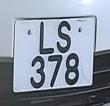3: (27, 53, 48, 89)
7: (45, 52, 64, 87)
8: (64, 51, 82, 85)
L: (34, 17, 57, 54)
S: (54, 18, 75, 50)
